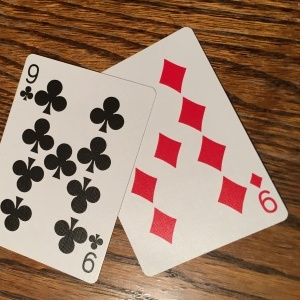card: (98, 26, 290, 274)
